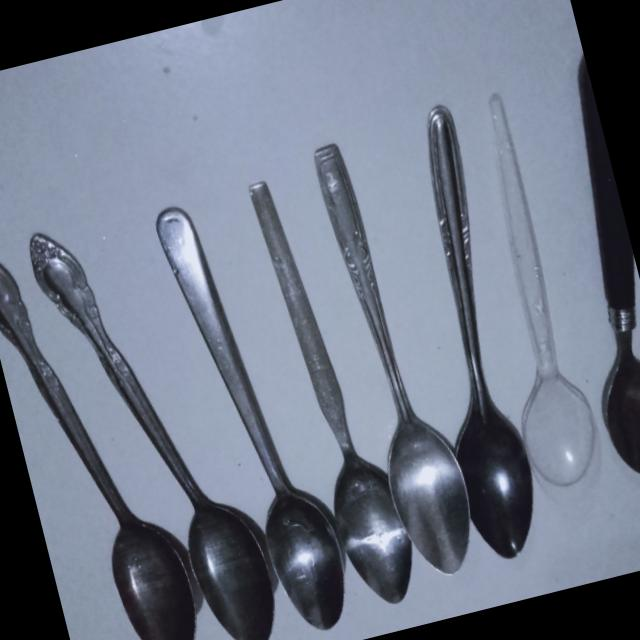spoon: (144, 151, 356, 640), (479, 88, 608, 490)
